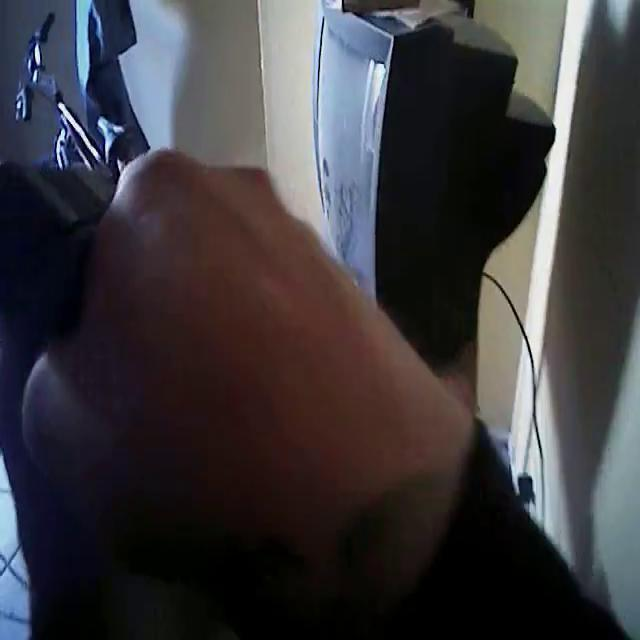gun: (0, 100, 171, 442)
